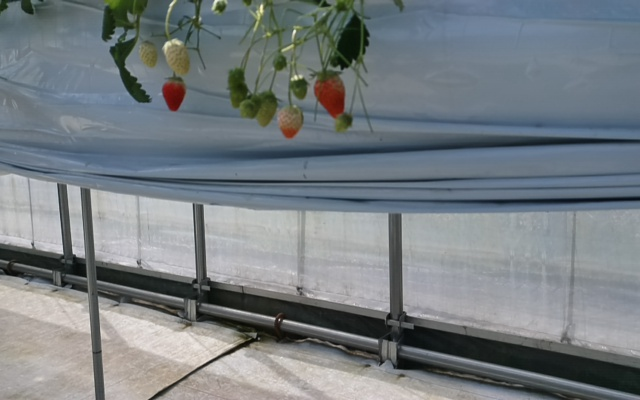GreenStrawberry: (225, 78, 259, 121), (161, 37, 195, 78), (255, 89, 279, 128), (278, 103, 302, 140), (133, 37, 158, 69), (286, 73, 309, 101)
MatureStrawberry: (312, 68, 346, 125), (162, 78, 187, 115)
